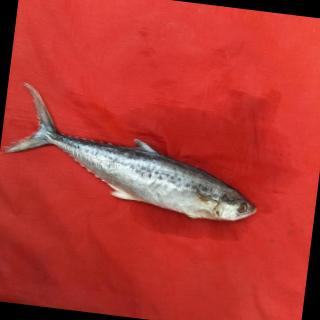Ikan: (1, 76, 283, 241)
